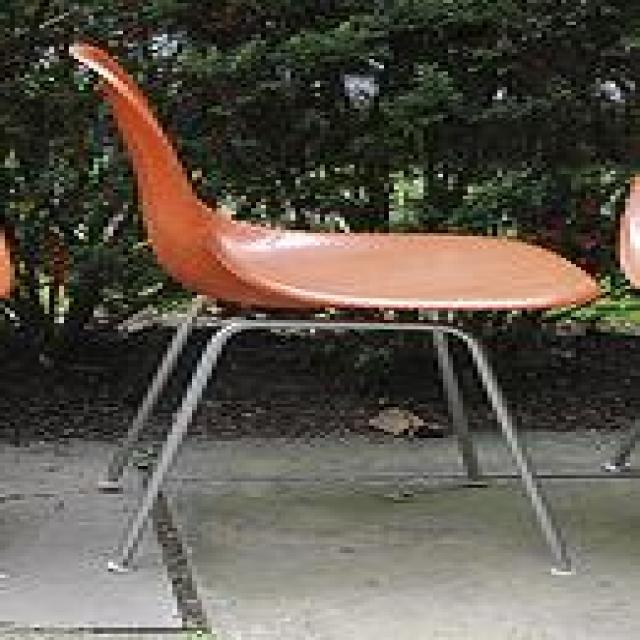chair: (64, 37, 601, 578)
